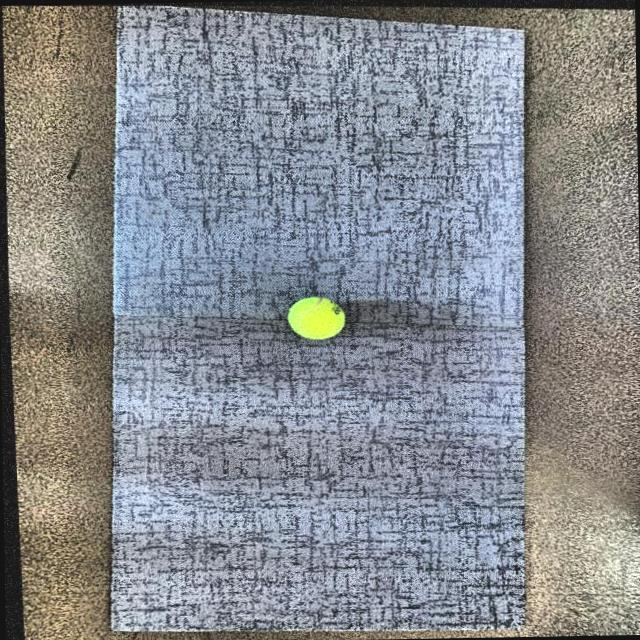Tennis Ball: (280, 290, 354, 346)
